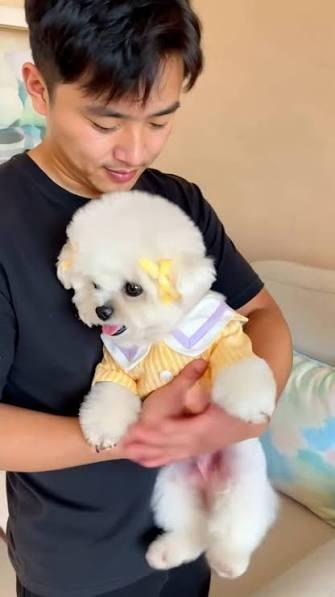adult_dog: (50, 189, 285, 579)
